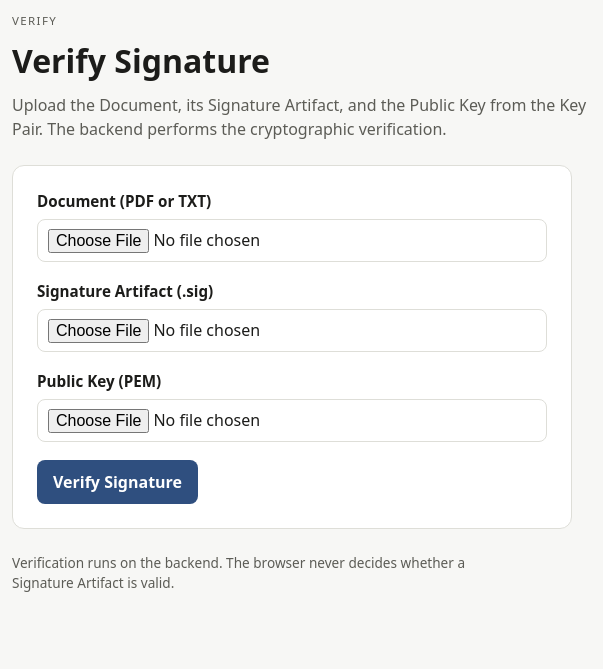
Test: Verify Signature › requires a Document, Signature Artifact, and Public Key
What coordinates should you click on to do the following:
click the button "Verify Signature"
I would click on:
 (118, 482)
Its box is 37,460 -> 198,504.
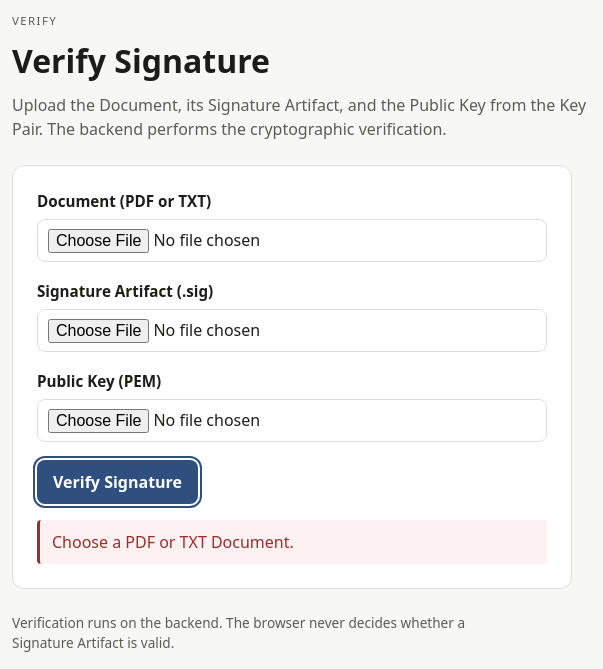
Expected: the message shows "Document", 52,531 -> 294,553
